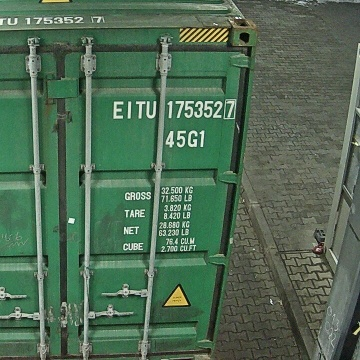serial_id: (113, 101, 234, 118)
